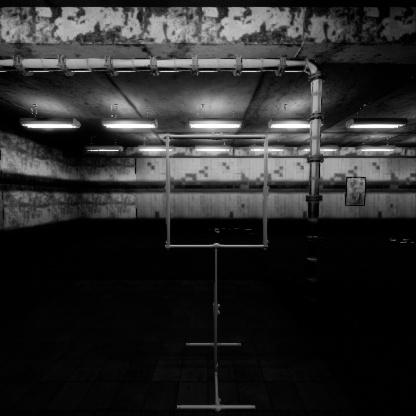gate: (165, 166, 277, 281)
